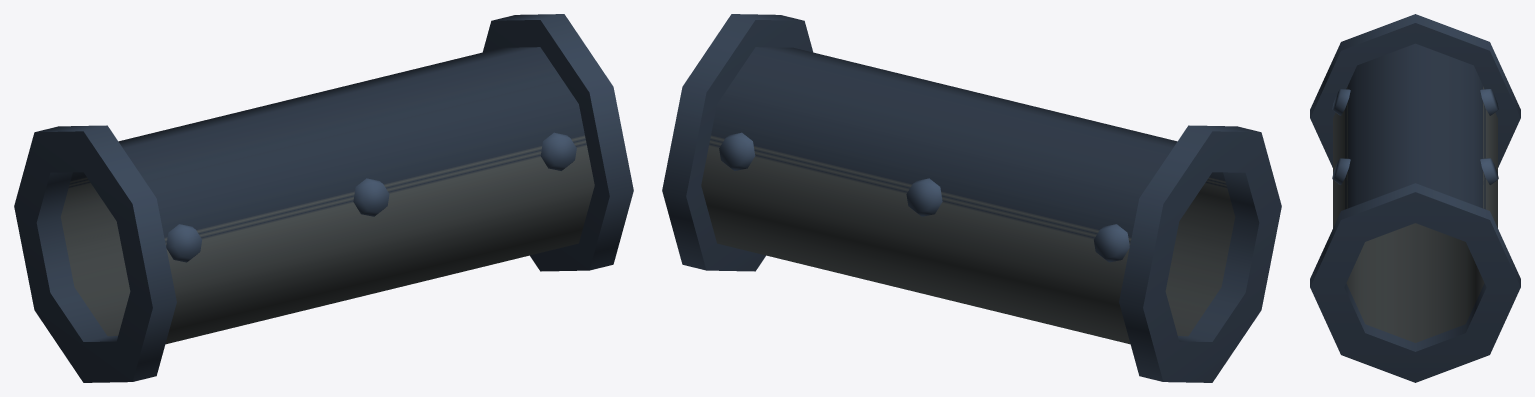
File: factory-kit__pipe-large-long.glb
3 views of the same model, side by side, from view 1: azimuth 30°, elevation 25°; view 2: azimuth 150°, elevation 25°; view 3: azimuth 270°, elevation 25° (orthographic). The views are drawn at different scales.
Parts seen in each view (by area): view 1: pipe-large-long; view 2: pipe-large-long; view 3: pipe-large-long.
Part boxes in pixels (bbox=[...]): pipe-large-long: bbox=[14, 14, 633, 382]; pipe-large-long: bbox=[662, 14, 1281, 382]; pipe-large-long: bbox=[1310, 14, 1520, 382].
Bounding box in the file's own units: 6 × 3 × 3.
1 material, 1 textured.
